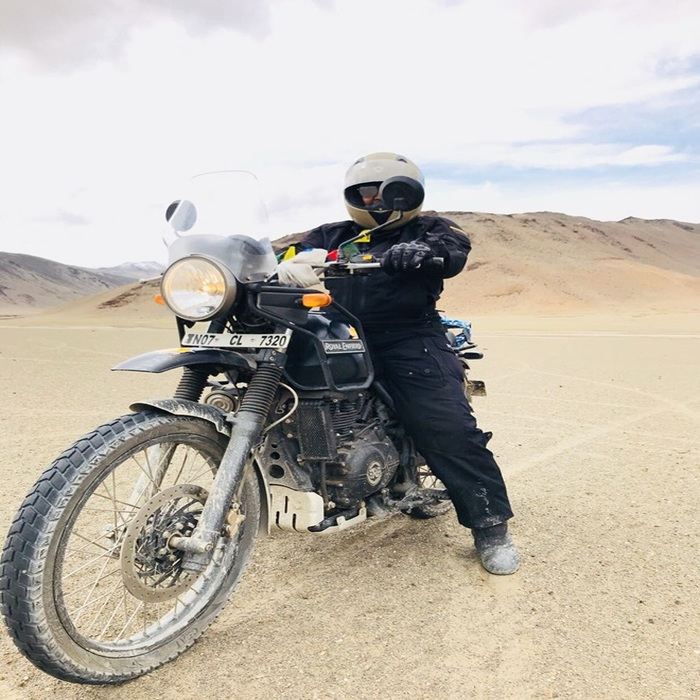h: (342, 148, 427, 233)
n: (178, 330, 292, 353)
